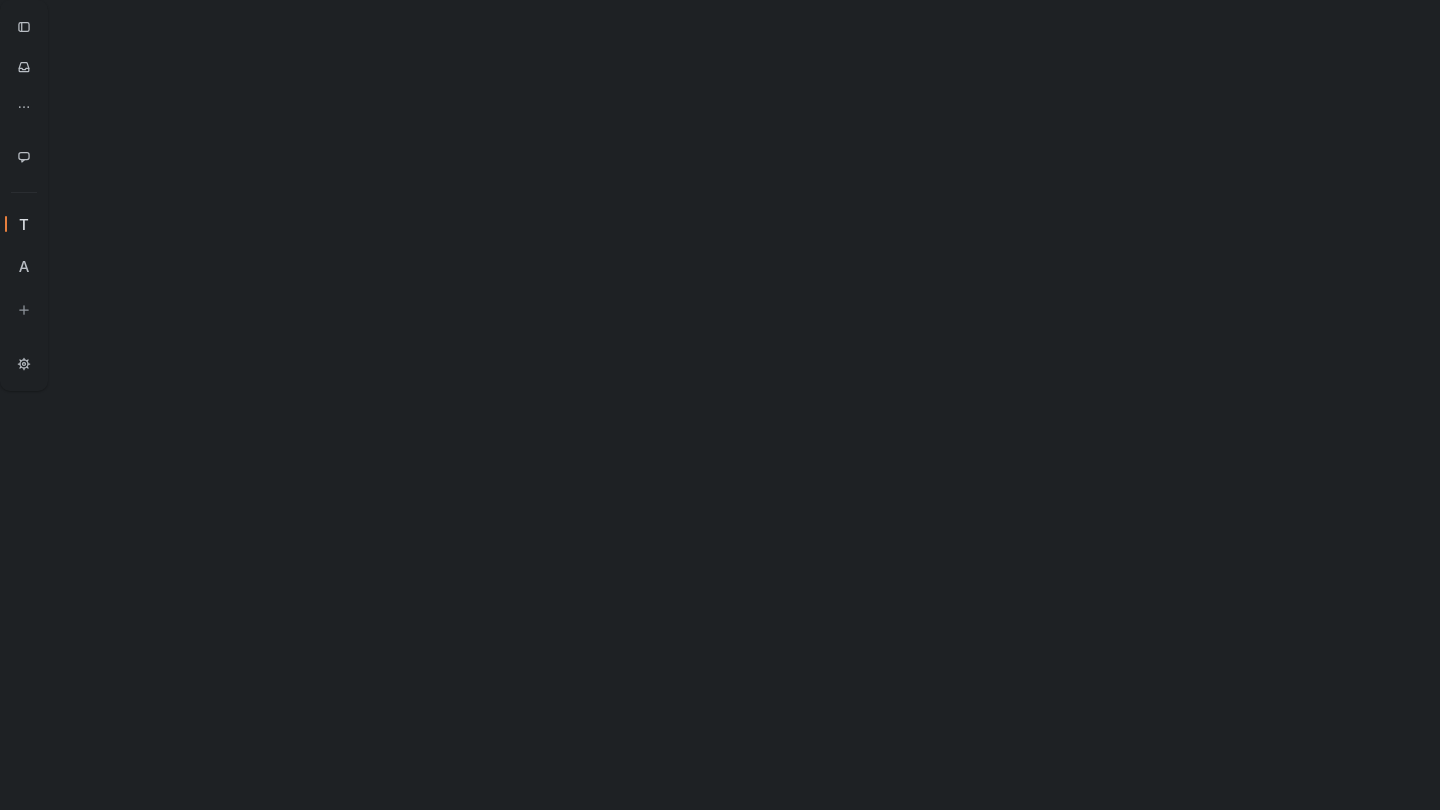
Rail — signaux et boîte « À traiter » › vide, la boîte le dit sans compteur
Click the button named "À traiter — rien en attente" at (24, 67), box [5, 48, 43, 86]
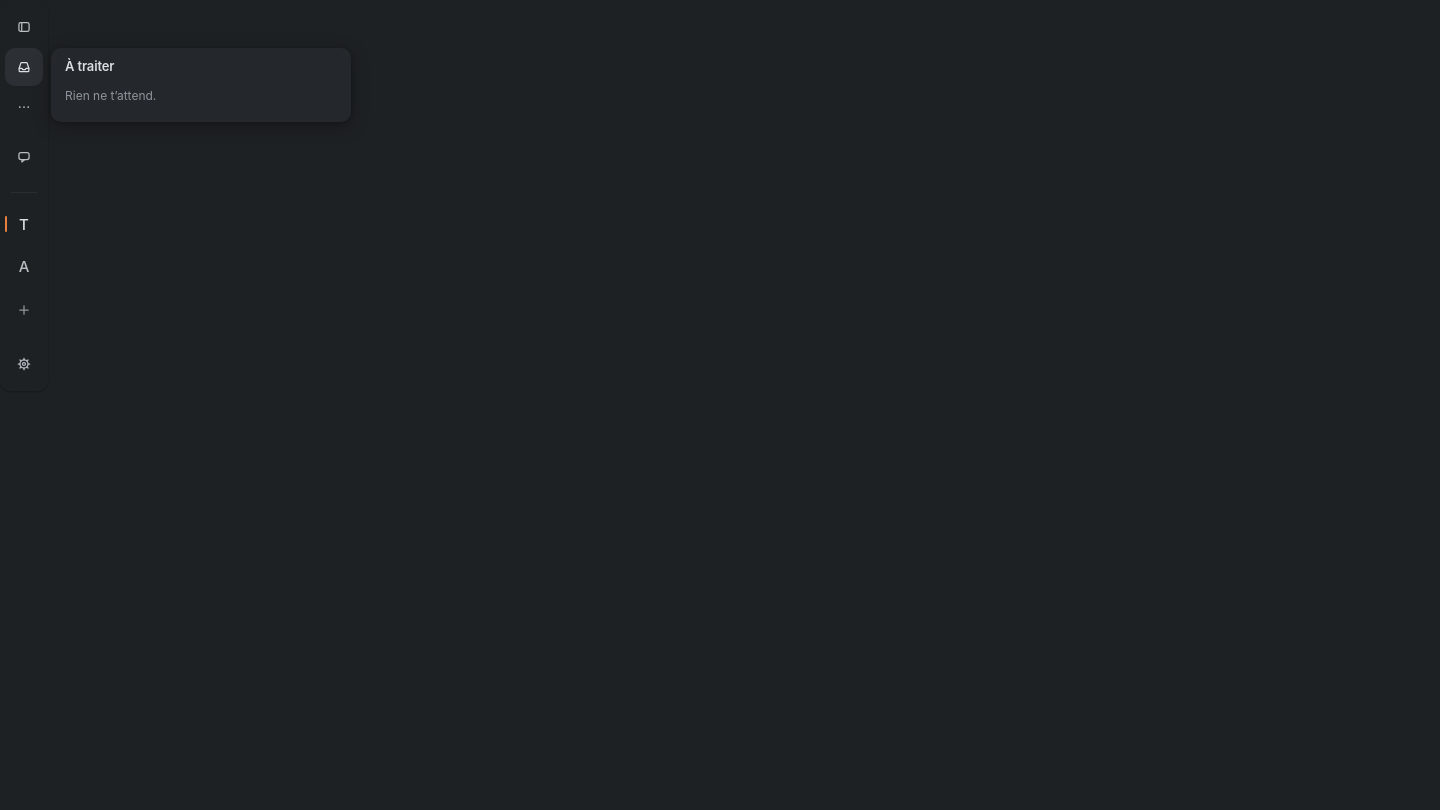
Expected: the text "Rien ne t’attend." is shown, [65, 88, 156, 103]
